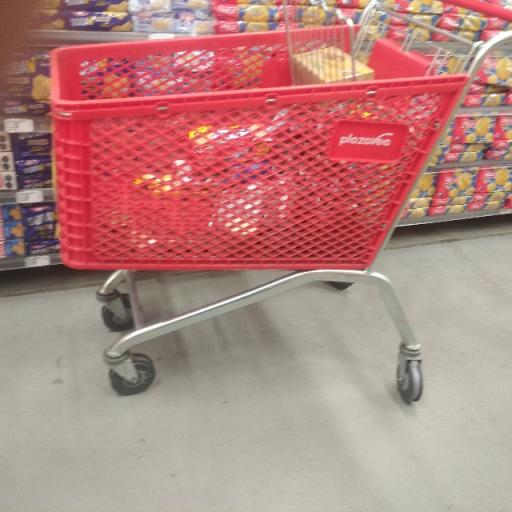shopping_cart: (51, 0, 512, 408)
